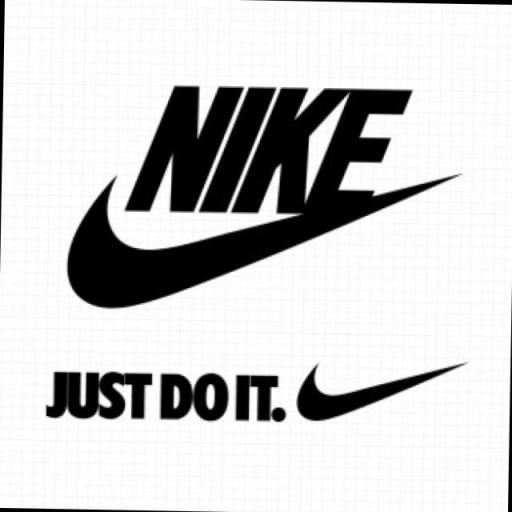Nike: (122, 79, 410, 218), (294, 352, 470, 426)
